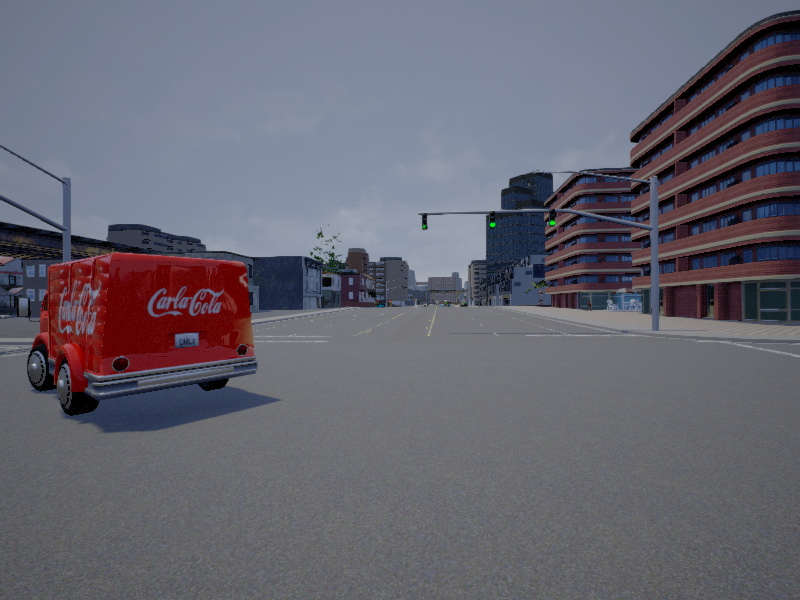Benign: (27, 258, 260, 407)
